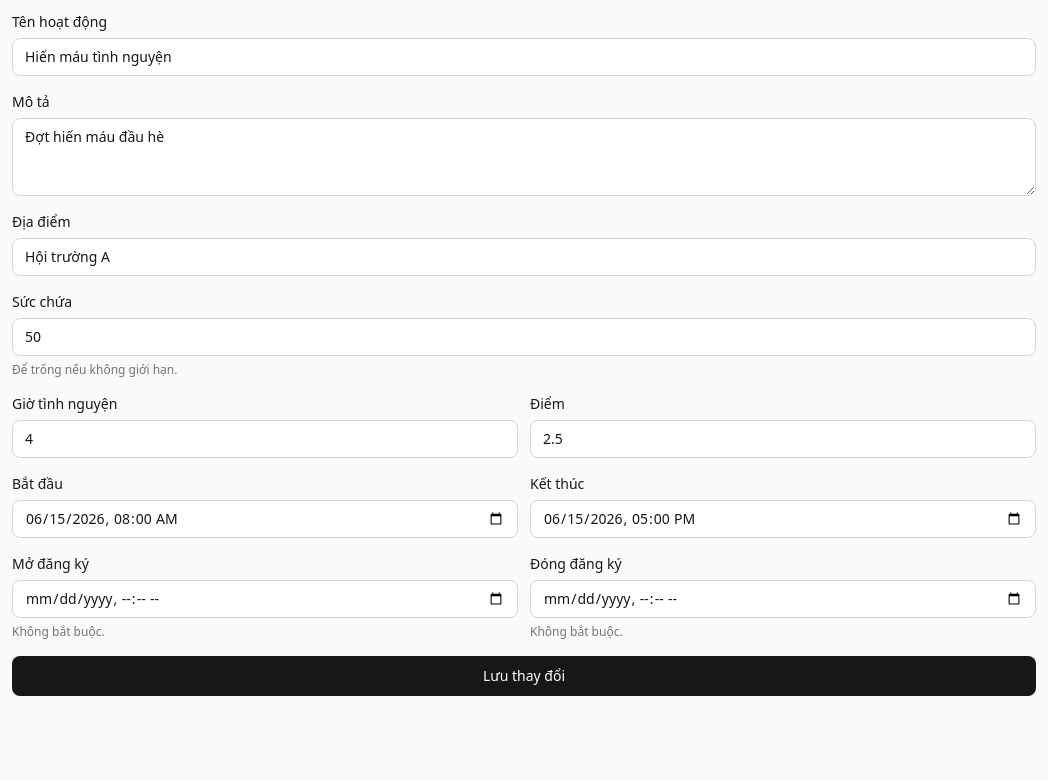
ActivityForm — edit › surfaces capacity_below_registrations on the capacity field
Replace the text in the number field labelled "Sức chứa" with "2" at (524, 337), box [12,318,1036,356]
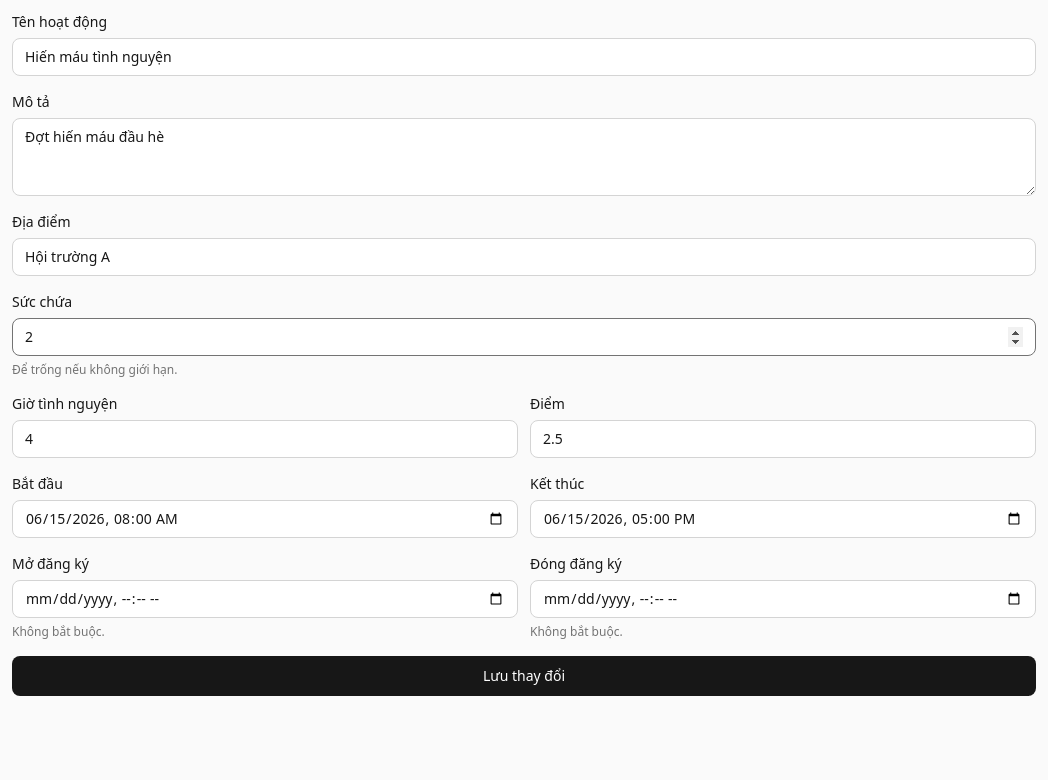
Click the button "Lưu thay đổi" at (524, 676), box [12,656,1036,696]
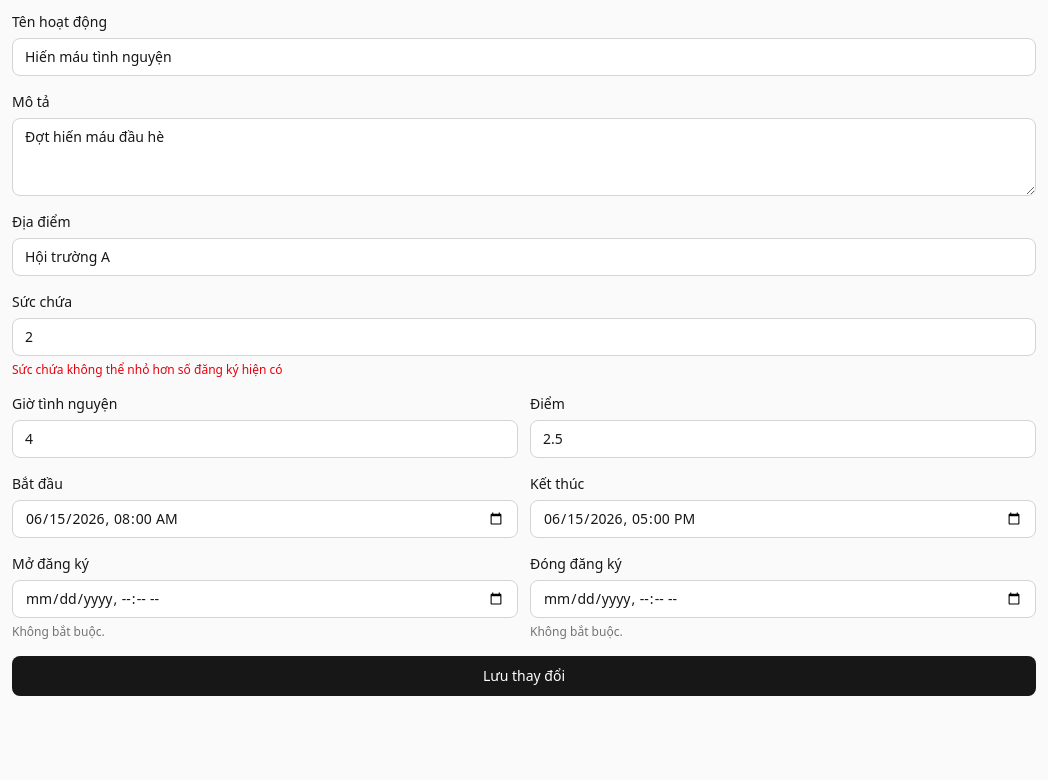
Check: the message reads "Sức chứa không thể nhỏ hơn số đăng ký hiện có", box [12,361,282,378]
